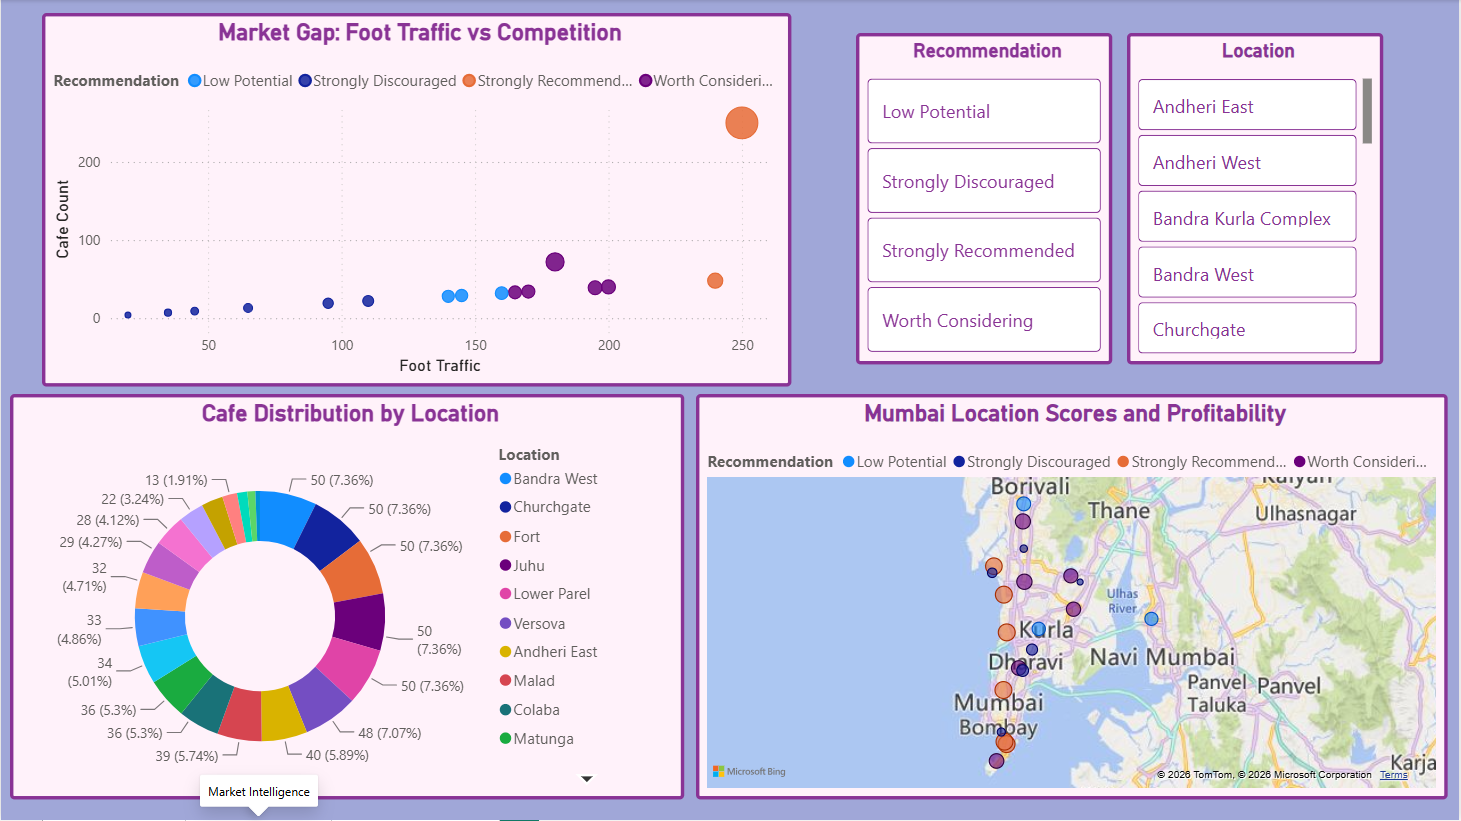

The page's visual inventory and layout, read from the dashboard file:
{"tool":"powerbi","page":{"name":"Market Intelligence","canvas":[1280,720],"ordinal":1},"visuals":[{"type":"map","title":"Mumbai Location Scores and Profitability","fields":{"Size":["Avg(Model Sheet.Score)"],"Y":["mumbai_location_analysis.latitude"],"X":["mumbai_location_analysis.longitude"],"Series":["Model Sheet.Recommendation"]},"box":[610,346,660,356],"z":0},{"type":"scatterChart","title":"Market Gap: Foot Traffic vs Competition","fields":{"X":["Model Sheet.Foot Traffic"],"Y":["Model Sheet.Cafe Count"],"Series":["Model Sheet.Recommendation"],"Size":["Sum(Model Sheet.Score)"]},"box":[36,11,658,328],"z":1000},{"type":"advancedSlicerVisual","fields":{"Values":["Model Sheet.Location"]},"box":[989,29,225,291],"z":2000},{"type":"donutChart","title":"Cafe Distribution by Location","fields":{"Category":["Model Sheet.Location"],"Y":["Model Sheet.Total Cafe Count"]},"box":[8,346,592,356],"z":3000},{"type":"advancedSlicerVisual","fields":{"Values":["Model Sheet.Recommendation"]},"box":[751,29,225,291],"z":4000}]}

Visuals, with their boxes in screenshot pixels (x1, y1, x2, y2), scaled from the page's 1280x720 canvas onto the 1461x821 screenshot:
"Mumbai Location Scores and Profitability" map: [x1=696, y1=395, x2=1450, y2=800]
"Market Gap: Foot Traffic vs Competition" scatterChart: [x1=41, y1=13, x2=792, y2=387]
advancedSlicerVisual - Model Sheet.Location: [x1=1129, y1=33, x2=1386, y2=365]
"Cafe Distribution by Location" donutChart: [x1=9, y1=395, x2=685, y2=800]
advancedSlicerVisual - Model Sheet.Recommendation: [x1=857, y1=33, x2=1114, y2=365]
